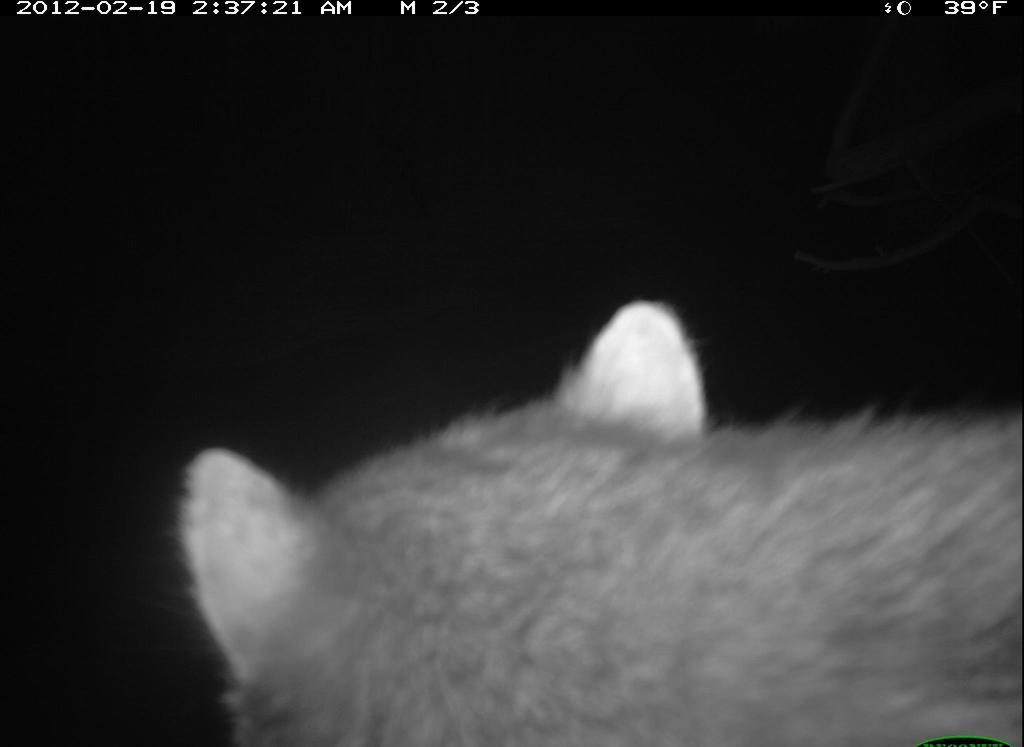raccoon: (173, 292, 1023, 747)
